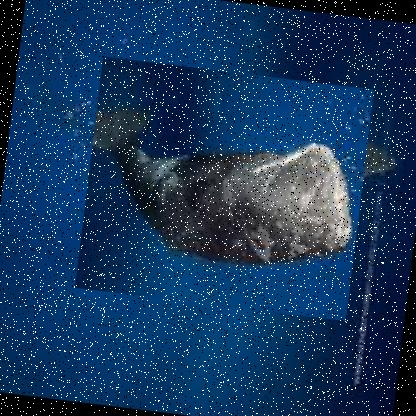sperm_whale: (74, 55, 374, 320)
